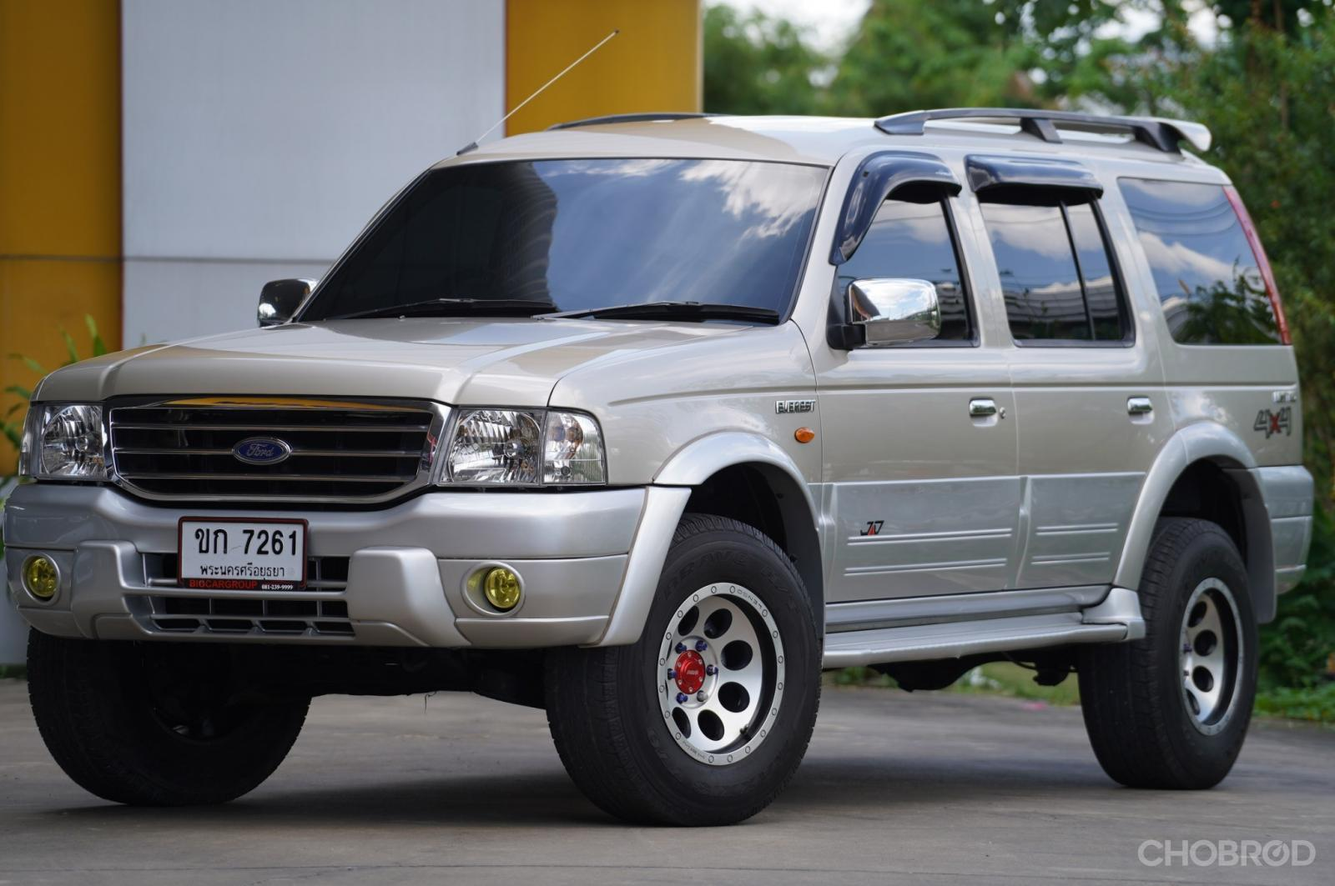license-plate: (173, 510, 310, 594)
